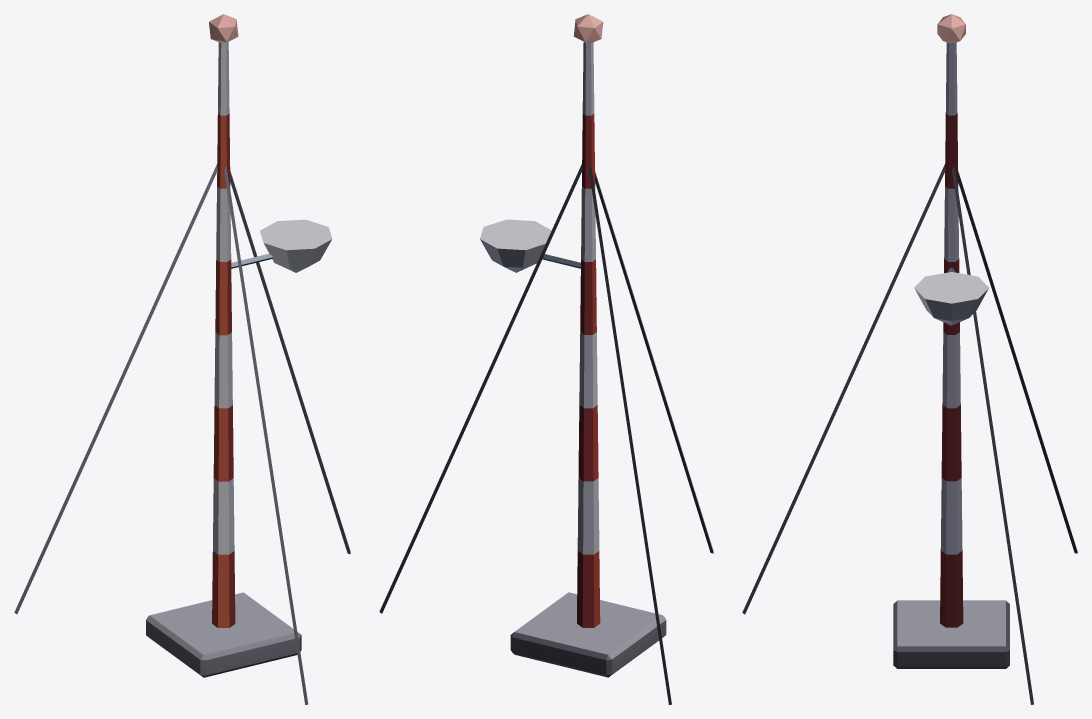
File: radio_mast.glb
3 renders of one model, left to right at view 1: azimuth 30°, elevation 25°; view 2: azimuth 150°, elevation 25°; view 3: azimuth 270°, elevation 25°, orthographic.
Parts seen in each view (by area): view 1: radio_mast; view 2: radio_mast; view 3: radio_mast.
Part boxes in pixels (left/top/right/bottom): radio_mast: left=14, top=14, right=350, bottom=704; radio_mast: left=379, top=14, right=713, bottom=704; radio_mast: left=742, top=14, right=1077, bottom=704.
Bounding box in the file's own units: 0.8693 × 1.67 × 0.8035.
